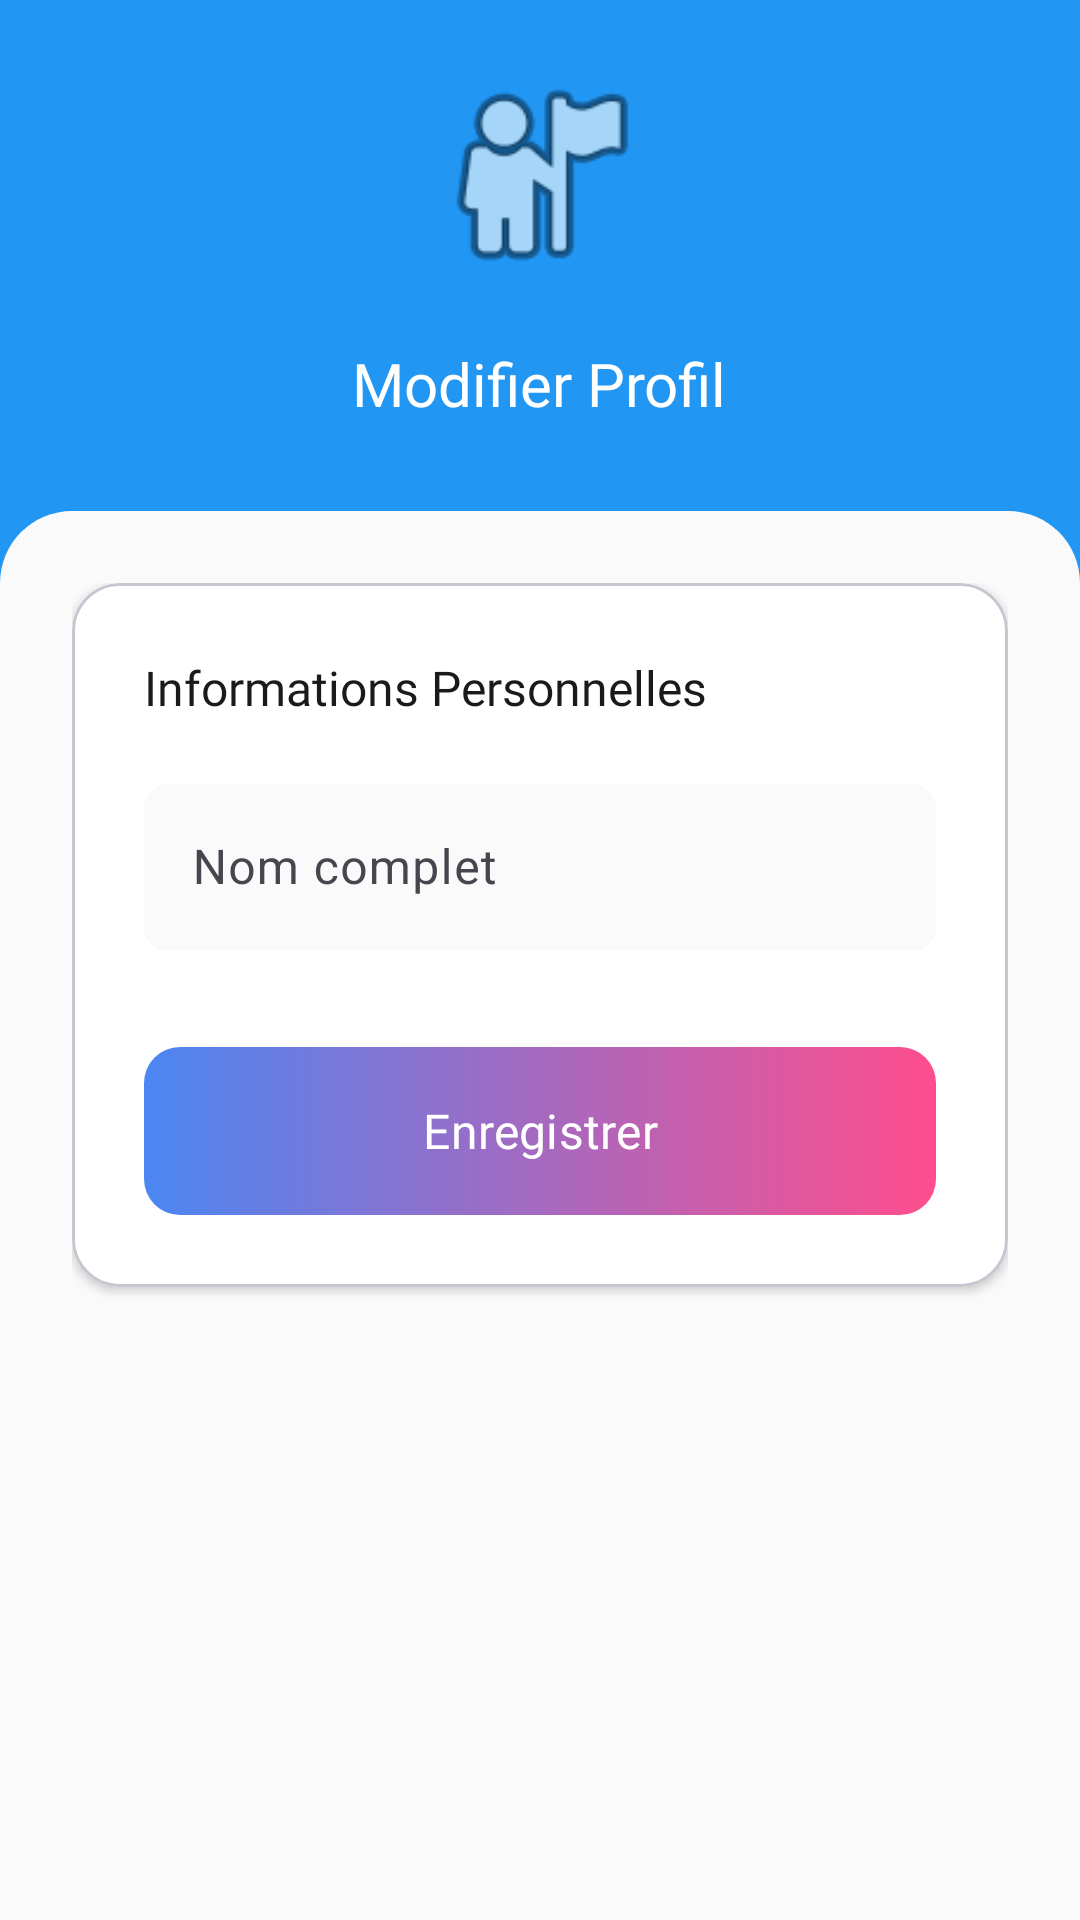

Icon bounding boxes for this 1080*1920 phone screenshot, format (x1, y1, x2, y2):
myplaces: (457, 90, 628, 260)
